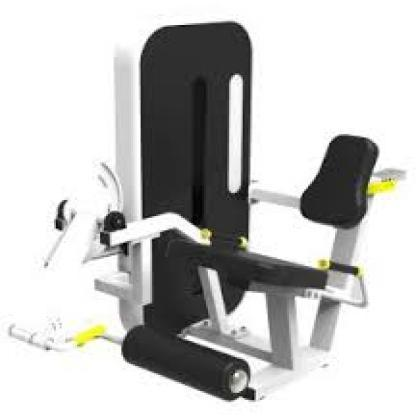leg extension: (0, 15, 416, 410)
